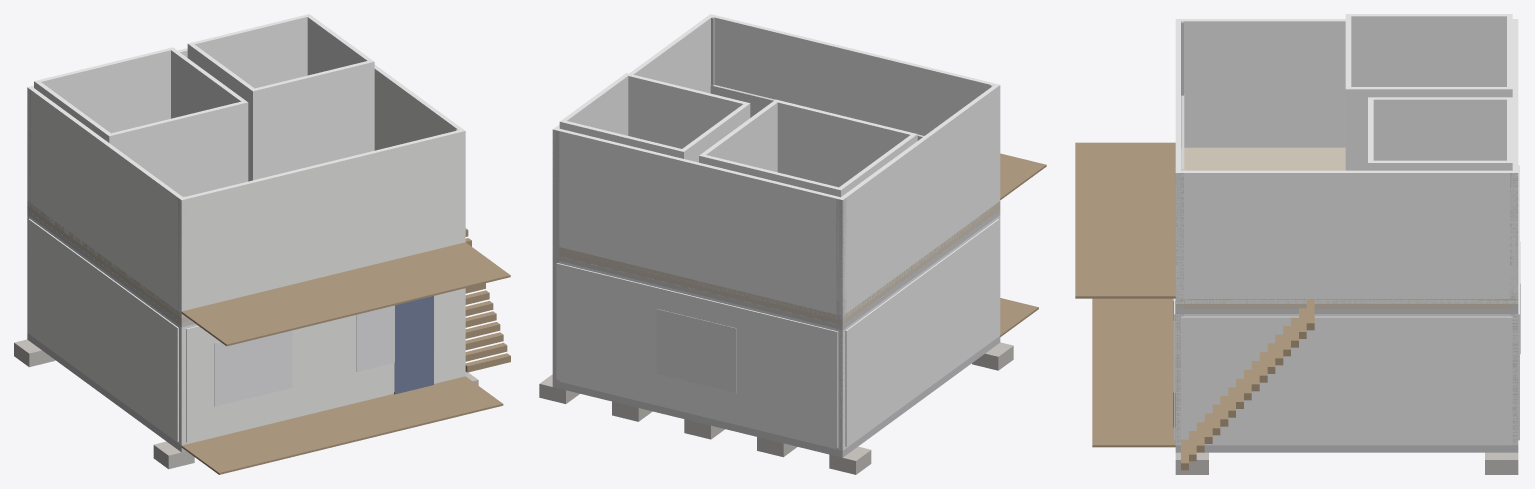
Rendered from Duplex-20-Premium+FullSolar-LOD2.glb.
The picture shows the model from 3 angles, left to right: view 1: azimuth 30°, elevation 25°; view 2: azimuth 150°, elevation 25°; view 3: azimuth 270°, elevation 25°; orthographic projection. The views are drawn at different scales.
Parts seen in each view (by area): view 1: ExteriorShellUpper, ExteriorPanelsPremium, StudyUpper, BedroomUpper, BalconyUpper, BalconyGround, WindowsLargeUpgrade, EntryDoor, StaircaseExternal, ExteriorShell, FoundationBlocks, FloorUpper (+2 smaller); view 2: ExteriorShellUpper, ExteriorPanelsPremium, BedroomUpper, StudyUpper, WindowsLargeUpgrade, FloorUpper, VerticalStructure, FoundationBlocks, BaseFrame, ExteriorShell, TopFrame, BalconyUpper (+2 smaller); view 3: ExteriorShellUpper, ExteriorPanelsPremium, BalconyUpper, BedroomUpper, BalconyGround, StudyUpper, FloorUpper, StaircaseExternal, ExteriorShell, VerticalStructure, BaseFrame, TopFrame (+1 smaller).
Boxes of the visible parts, x1,y1,x2,y2 form: ExteriorShellUpper: (27,48,465,317); ExteriorPanelsPremium: (28,218,461,442); StudyUpper: (187,14,374,181); BedroomUpper: (34,47,248,196); BalconyUpper: (181,242,510,346); BalconyGround: (181,376,503,474); WindowsLargeUpgrade: (214,295,434,406); EntryDoor: (394,296,433,394); StaircaseExternal: (465,228,510,372); ExteriorShell: (27,215,465,445); FoundationBlocks: (14,339,478,469); FloorUpper: (27,201,190,322); ExteriorShellUpper: (552,14,1000,319); ExteriorPanelsPremium: (556,219,999,447); BedroomUpper: (699,99,917,197); StudyUpper: (559,73,750,162); WindowsLargeUpgrade: (656,309,736,393); FloorUpper: (559,201,1000,325); VerticalStructure: (552,17,998,450); FoundationBlocks: (539,342,1013,474); BaseFrame: (552,336,1000,457); ExteriorShell: (559,215,1000,450); TopFrame: (559,210,1000,329); BalconyUpper: (1000,153,1046,199); ExteriorShellUpper: (1175,19,1518,303); ExteriorPanelsPremium: (1174,165,1519,443); BalconyUpper: (1075,142,1175,298); BedroomUpper: (1345,14,1512,170); BalconyGround: (1092,298,1175,447); StudyUpper: (1368,97,1512,170); FloorUpper: (1175,147,1518,308); StaircaseExternal: (1181,299,1314,470); ExteriorShell: (1175,314,1518,445); VerticalStructure: (1175,21,1518,445); BaseFrame: (1175,445,1518,452); TopFrame: (1175,309,1518,313).
Bounding box in the file's own units: 7.94 × 6 × 8.
